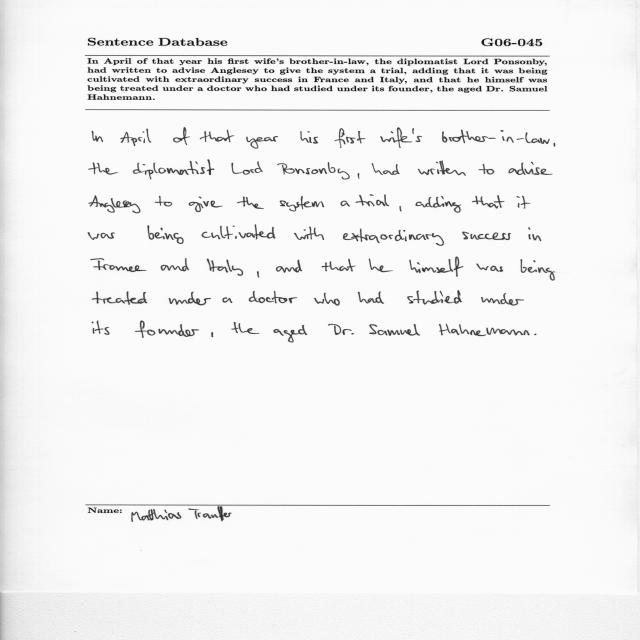word: (343, 228, 444, 246), (133, 160, 215, 179), (449, 130, 550, 144), (381, 127, 448, 148), (277, 162, 350, 180), (202, 225, 276, 240), (409, 257, 464, 277), (439, 324, 530, 336), (135, 321, 199, 338), (89, 196, 140, 214), (407, 290, 462, 305), (91, 258, 147, 272), (416, 196, 462, 213), (520, 259, 555, 281), (93, 291, 147, 305), (418, 161, 466, 176), (148, 225, 184, 244), (280, 196, 324, 211), (207, 259, 243, 276), (369, 324, 420, 336), (335, 128, 365, 148), (274, 325, 308, 342), (249, 291, 297, 303), (509, 162, 553, 175), (481, 293, 524, 306), (169, 292, 211, 305), (121, 129, 152, 146), (189, 197, 223, 212), (472, 195, 505, 209), (322, 259, 356, 272), (246, 136, 278, 149), (231, 162, 263, 175), (200, 130, 234, 142), (356, 195, 390, 207), (462, 232, 511, 240), (294, 227, 324, 240), (89, 162, 118, 175), (161, 258, 189, 271), (237, 196, 264, 209), (371, 163, 400, 175), (276, 260, 302, 273), (314, 293, 340, 306), (358, 291, 384, 304), (232, 322, 260, 334), (369, 259, 393, 272), (173, 127, 190, 145), (328, 324, 354, 335), (92, 321, 110, 335), (476, 263, 503, 272), (301, 131, 319, 144), (88, 232, 115, 240), (517, 196, 531, 209), (528, 227, 541, 241), (155, 196, 172, 206), (479, 164, 494, 174), (92, 131, 103, 142), (223, 297, 233, 303), (341, 201, 350, 207), (399, 206, 402, 212), (211, 332, 214, 337), (257, 271, 259, 278), (358, 173, 360, 179), (554, 143, 556, 147), (534, 334, 537, 335)
